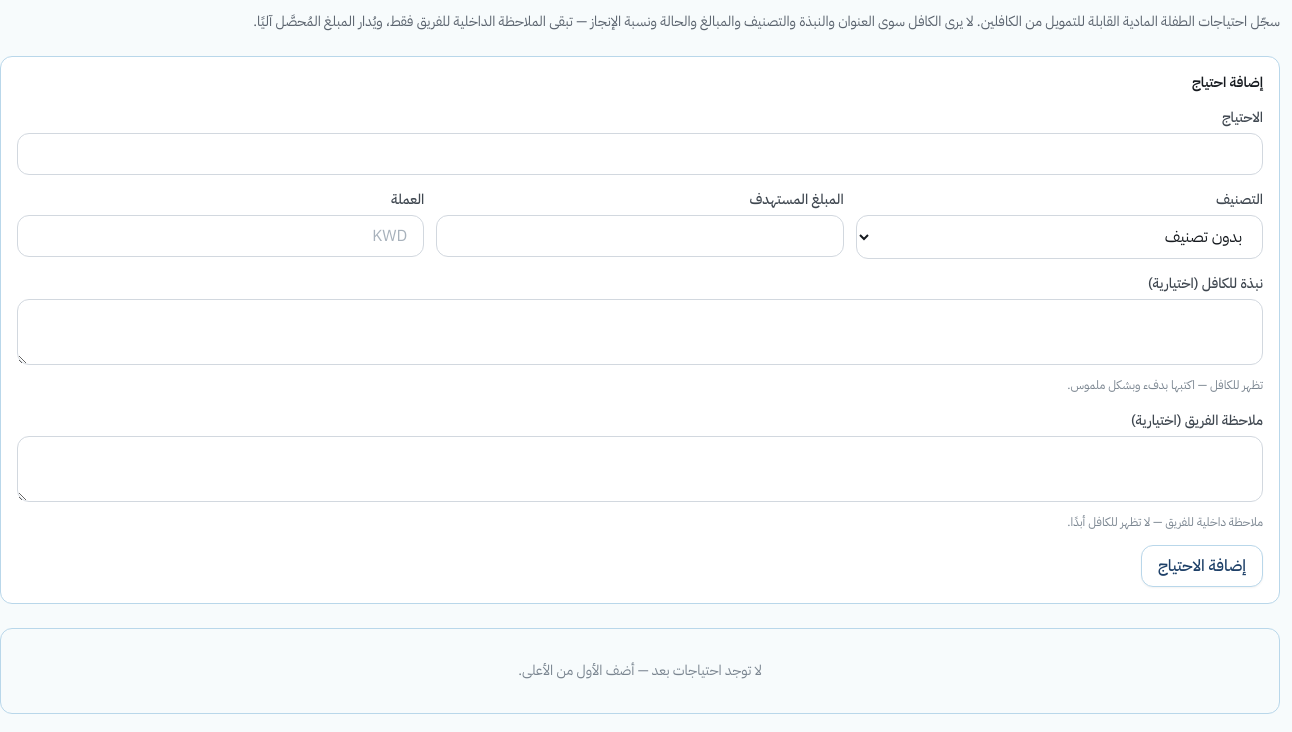
Test: OrphanNeedsManager › rejects an empty title client-side without posting
expect the text "لا توجد احتياجات بعد — أضف الأول من الأعلى." is shown: met, box x1=0 y1=628 x2=1280 y2=714
Click the button "إضافة الاحتياج".
click(1202, 566)  # box x1=1141 y1=545 x2=1263 y2=587
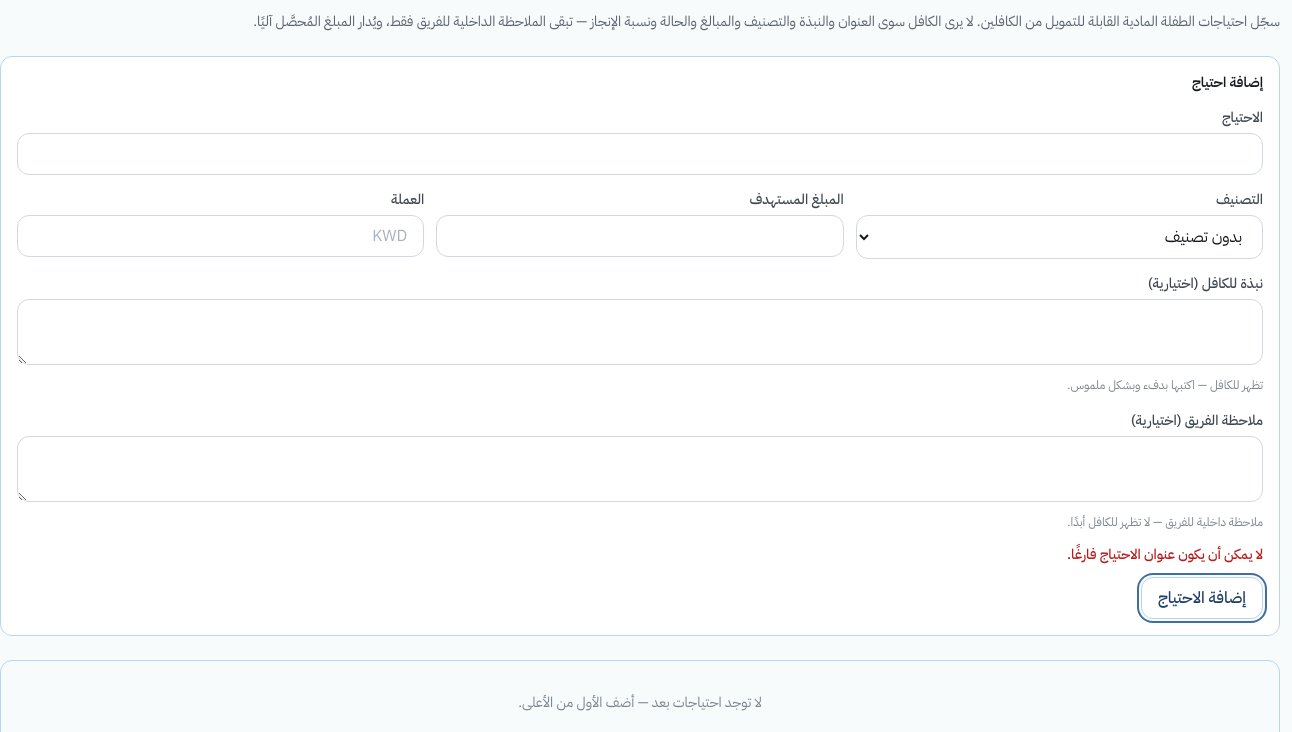
expect the text "لا يمكن أن يكون عنوان الاحتياج فارغًا." is shown: met, box x1=1067 y1=544 x2=1263 y2=565
